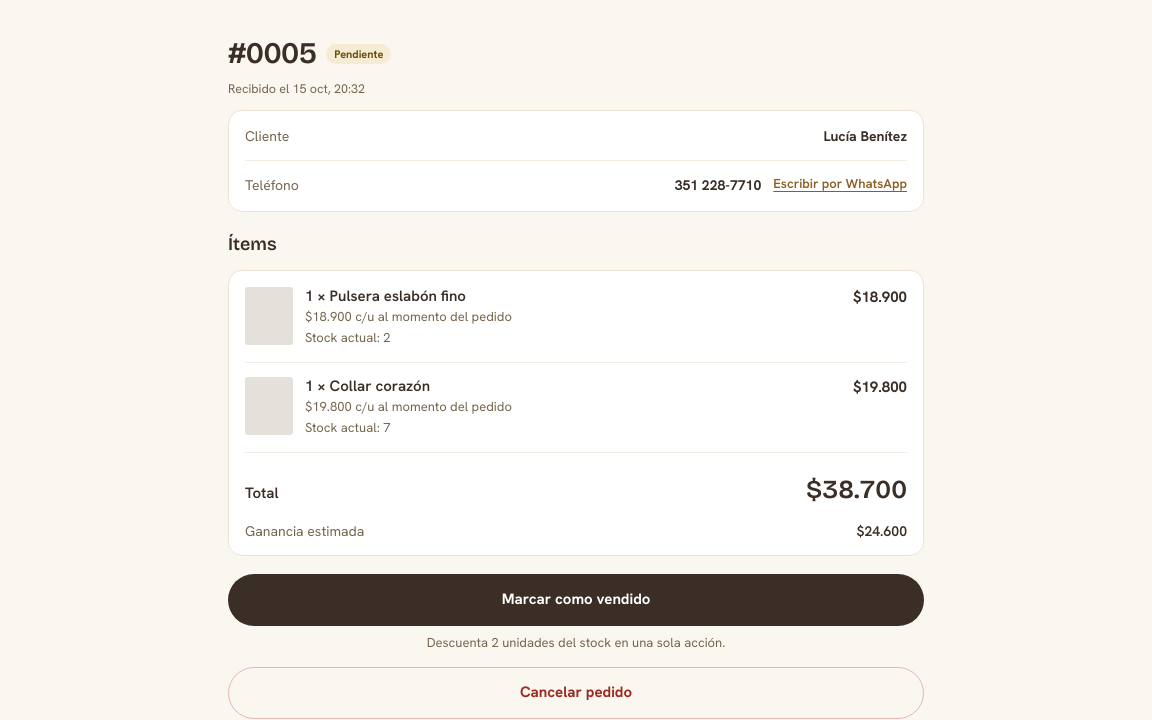
PedidoDetallePage › pendiente: muestra ítems, ganancia y vender descuenta stock con el aviso
expect the text "#0005" is shown: met, box 228,32 -> 316,76
expect the text "1 × Pulsera eslabón fino" is shown: met, box 305,286 -> 466,306
Click the button "Marcar como vendido". click: coordinates (576, 600)
box: 228,574 -> 924,626
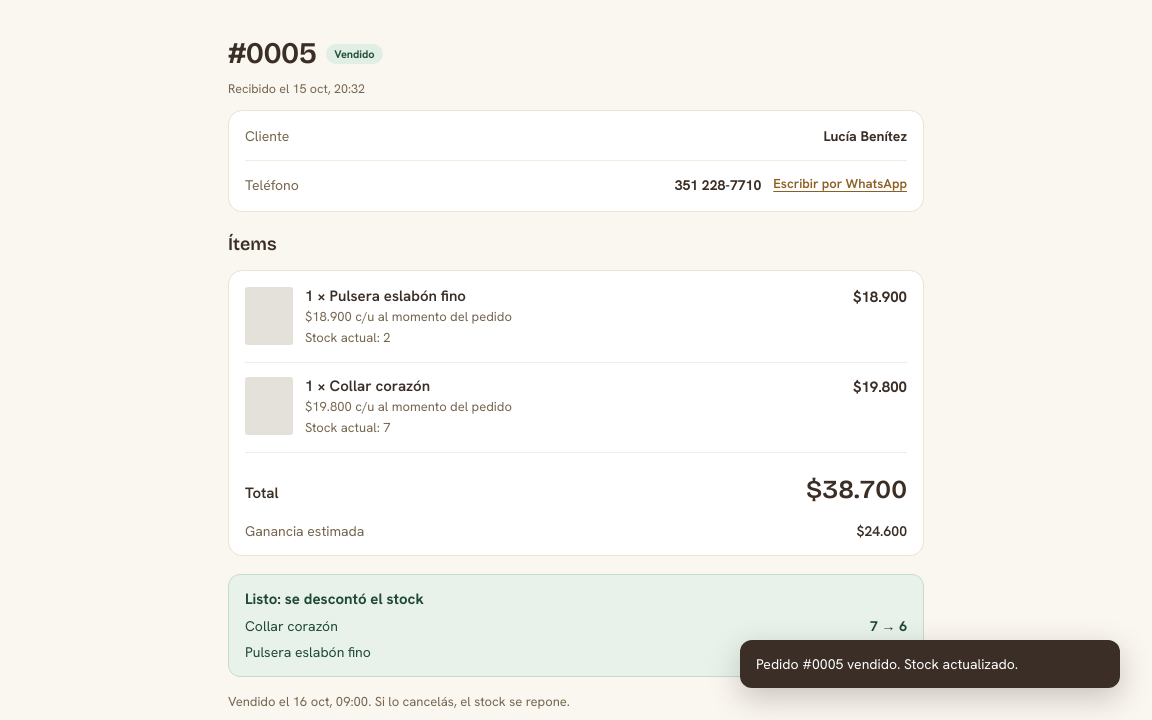
expect the text "Listo: se descontó el stock" is shown: met, box 245,589 -> 424,609
expect the text "2 → 1" is shown: met, box 870,642 -> 907,662
expect the text "Pedido #0005 vendido. Stock actualizado." is shown: met, box 740,640 -> 1120,688
